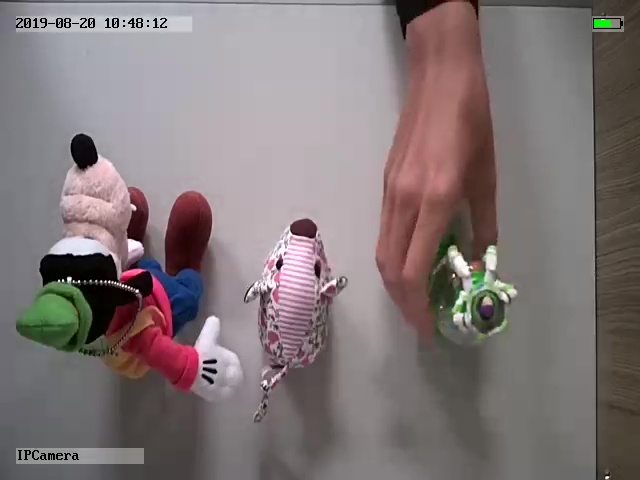buzz: (422, 244, 518, 352)
goofy: (12, 133, 244, 405)
pig: (243, 216, 351, 425)
